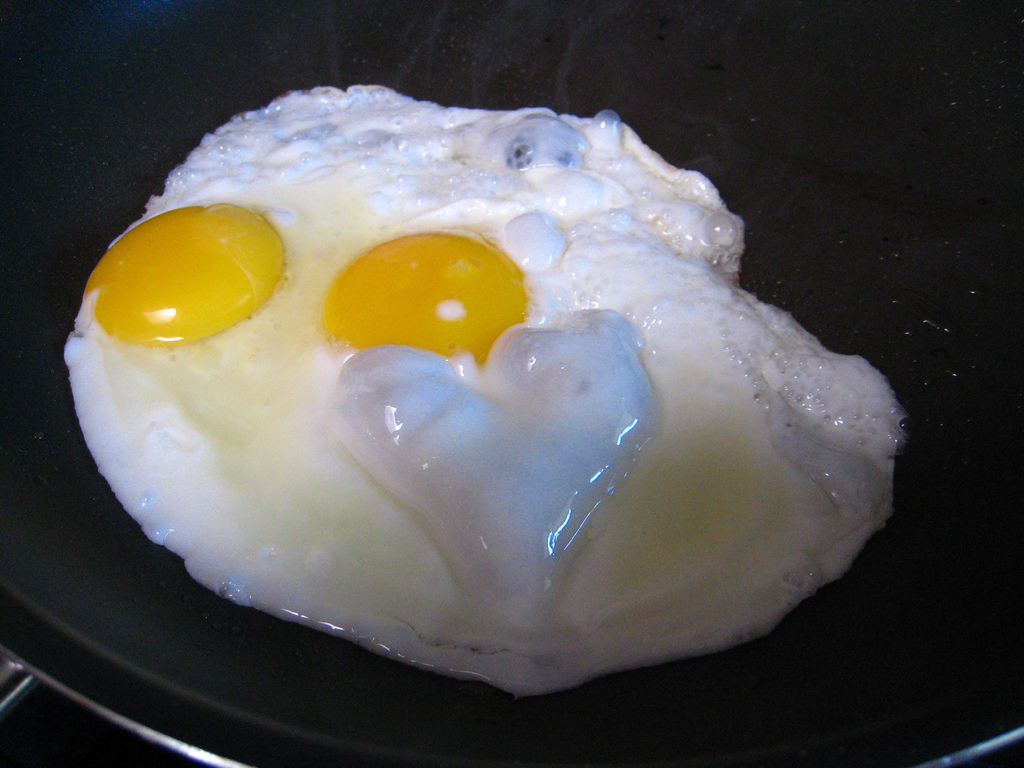fried egg: (78, 173, 883, 632)
